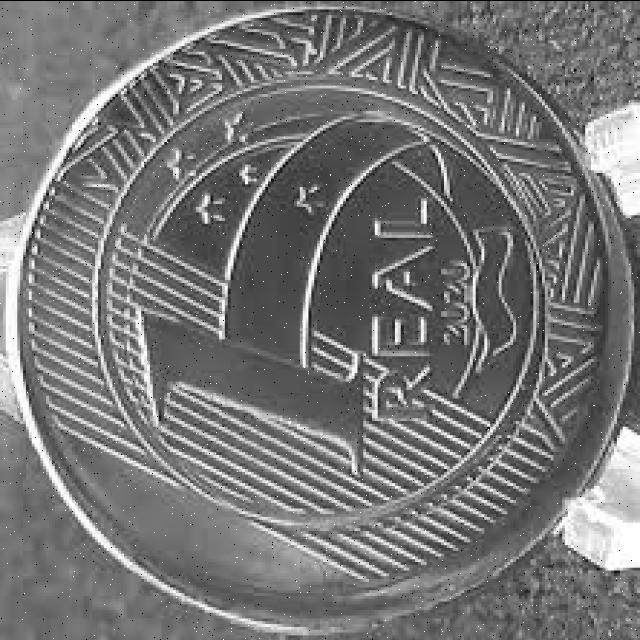1 real: (18, 1, 622, 624)
